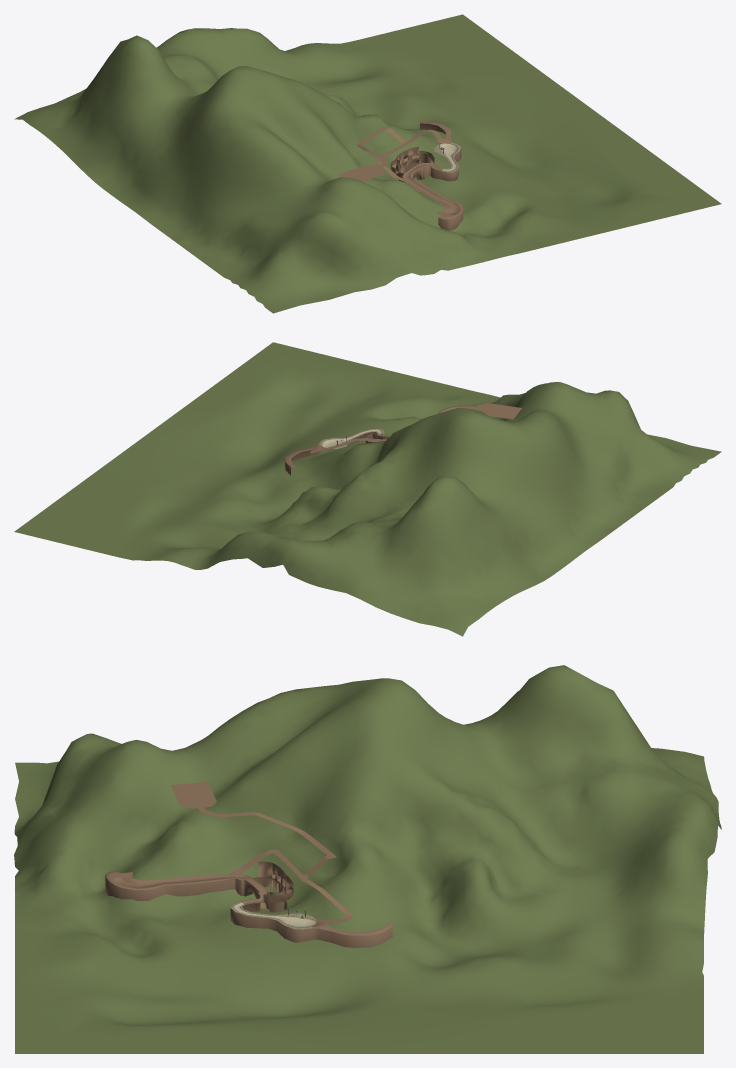
File: Coastal.fbx
The picture shows the model from 3 angles, top to bottom: view 1: azimuth 30°, elevation 25°; view 2: azimuth 150°, elevation 25°; view 3: azimuth 270°, elevation 25°; orthographic projection. The views are drawn at different scales.
Visible parts, largest first — view 1: Plane.001, Cube, Cube.002; view 2: Plane.001, Cube; view 3: Plane.001, Cube, Cube.002.
Boxes of the visible parts, x1,y1,x2,y2 form: Plane.001: (14,14,721,313); Cube: (337,121,463,230); Cube.002: (390,146,434,182); Plane.001: (14,342,721,636); Cube: (285,403,521,475); Plane.001: (14,665,721,1053); Cube: (105,782,392,947); Cube.002: (253,861,293,912).
Size of what is drawn, in the model's own units: 13813 by 3796 by 14139.
